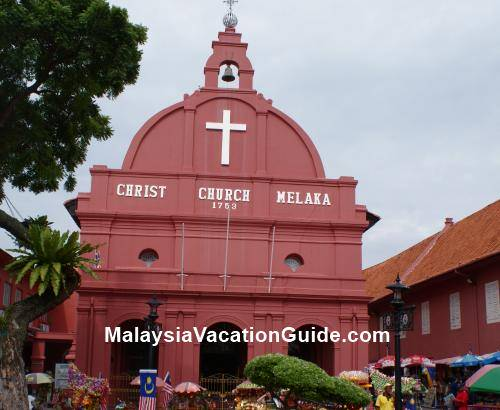Church: (79, 3, 373, 350)
